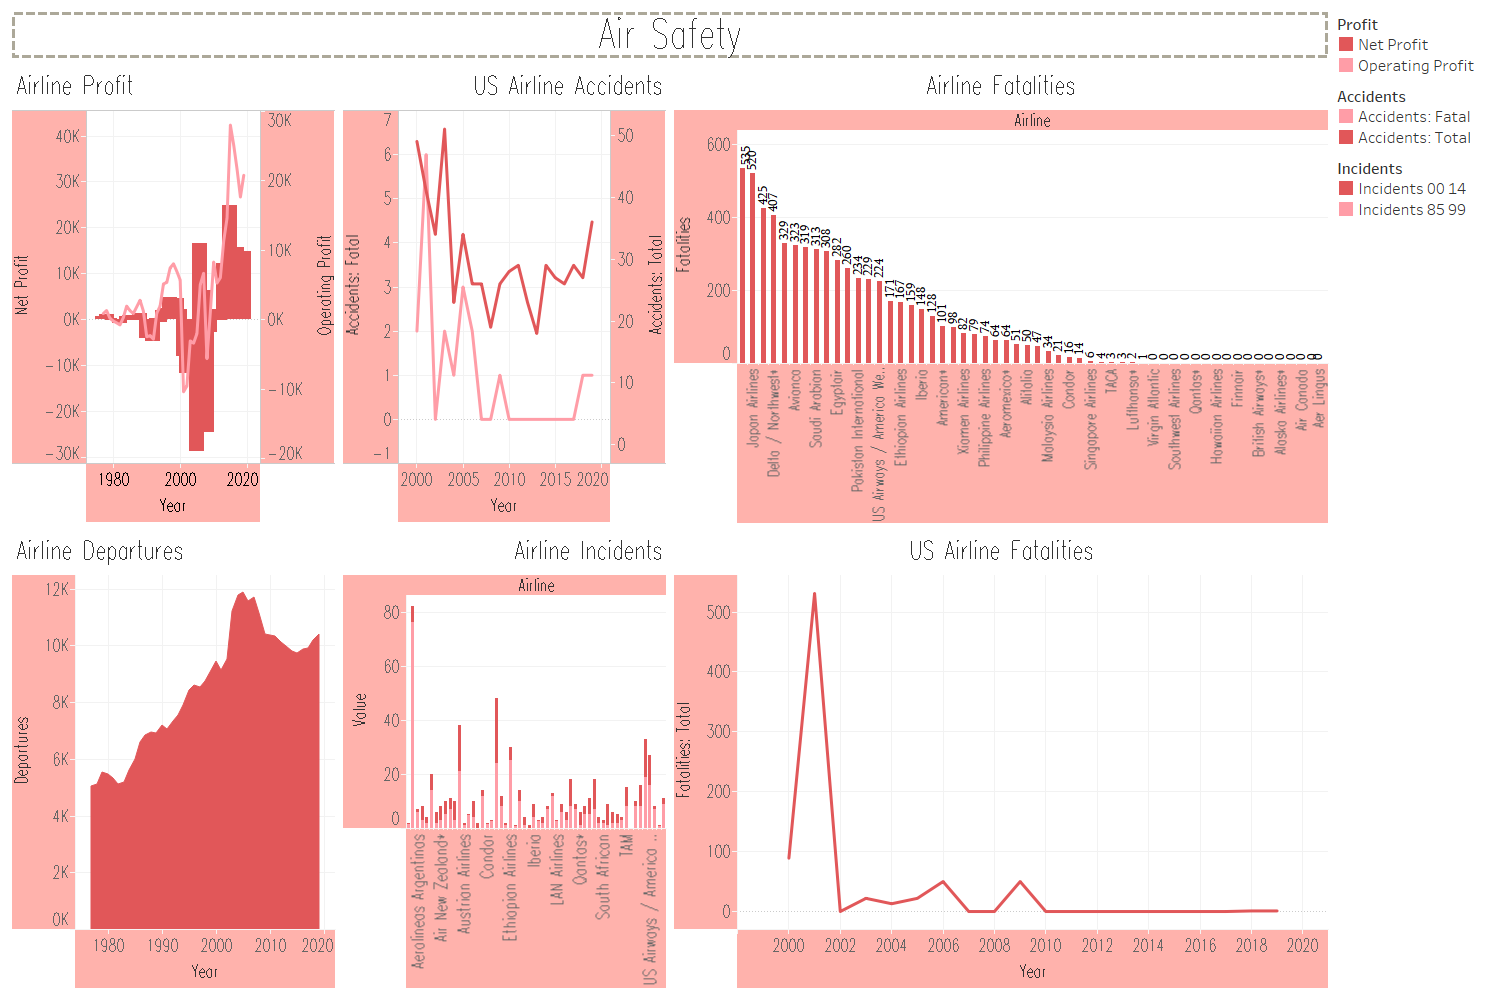

Layout of this report page (visuals, bound fields, positions):
{"tool":"tableau","page":{"name":"Dashboard-AS","canvas":[1500,1000],"ordinal":0},"visuals":[{"type":"worksheet","box":[0,0,1500,1000]},{"type":"worksheet","param":"horz","box":[8,8,1484,984]},{"type":"worksheet","param":"horz","box":[8,8,1324,984]},{"type":"worksheet","param":"vert","box":[8,8,1324,984]},{"type":"worksheet","box":[8,8,1324,54]},{"type":"worksheet","param":"vert","box":[1332,8,160,984]},{"type":"worksheet","title":"Graph","mark":"Automatic","rows":["Net Profit","Operating Profit"],"cols":["Year"],"param":"[federated.1flqajx1izq8n31atum900v5kinx].[:Measure Names]","box":[1332,8,160,72]},{"type":"worksheet","box":[8,62,1324,930]},{"type":"worksheet","title":"Graph","mark":"Automatic","rows":["Net Profit","Operating Profit"],"cols":["Year"],"box":[8,62,331,465]},{"type":"worksheet","title":"Graph2","mark":"Automatic","rows":[" Fatal"," Total"],"cols":["Year"],"box":[339,62,331,465]},{"type":"worksheet","title":"Bar Chart","mark":"Bar","rows":["fatalities_85_99"],"cols":["airline"],"box":[670,62,662,465]},{"type":"worksheet","title":"Graph2","mark":"Automatic","rows":[" Fatal"," Total"],"cols":["Year"],"param":"[federated.1xbcu8q1mwxpn410rd2hd1g5od09].[:Measure Names]","box":[1332,80,160,72]},{"type":"worksheet","title":"Stacked Bar","mark":"Automatic","cols":["airline"],"param":"[federated.0smvdgl0kwfz3r1bgzexj0v574p5].[:Measure Names]","box":[1332,152,160,72]},{"type":"worksheet","title":"Area Chart","mark":"Area","rows":["Departures (000)"],"cols":["Year"],"box":[8,527,331,465]},{"type":"worksheet","title":"Stacked Bar","mark":"Automatic","cols":["airline"],"box":[339,527,331,465]},{"type":"worksheet","title":"Line Plot","mark":"Line","rows":[" Total"],"cols":["Year"],"box":[670,527,662,465]}]}

Visuals, with their boxes in screenshot pixels (x1, y1, x2, y2), scaled from the page's 1500x1000 canvas onto the 1500x1000 screenshot:
worksheet: {"x1": 0, "y1": 0, "x2": 1499, "y2": 999}
worksheet: {"x1": 8, "y1": 8, "x2": 1492, "y2": 992}
worksheet: {"x1": 8, "y1": 8, "x2": 1332, "y2": 992}
worksheet: {"x1": 8, "y1": 8, "x2": 1332, "y2": 992}
worksheet: {"x1": 8, "y1": 8, "x2": 1332, "y2": 62}
worksheet: {"x1": 1332, "y1": 8, "x2": 1492, "y2": 992}
"Graph" worksheet: {"x1": 1332, "y1": 8, "x2": 1492, "y2": 80}
worksheet: {"x1": 8, "y1": 62, "x2": 1332, "y2": 992}
"Graph" worksheet: {"x1": 8, "y1": 62, "x2": 339, "y2": 527}
"Graph2" worksheet: {"x1": 339, "y1": 62, "x2": 670, "y2": 527}
"Bar Chart" worksheet (Bar marks): {"x1": 670, "y1": 62, "x2": 1332, "y2": 527}
"Graph2" worksheet: {"x1": 1332, "y1": 80, "x2": 1492, "y2": 152}
"Stacked Bar" worksheet: {"x1": 1332, "y1": 152, "x2": 1492, "y2": 224}
"Area Chart" worksheet (Area marks): {"x1": 8, "y1": 527, "x2": 339, "y2": 992}
"Stacked Bar" worksheet: {"x1": 339, "y1": 527, "x2": 670, "y2": 992}
"Line Plot" worksheet (Line marks): {"x1": 670, "y1": 527, "x2": 1332, "y2": 992}
